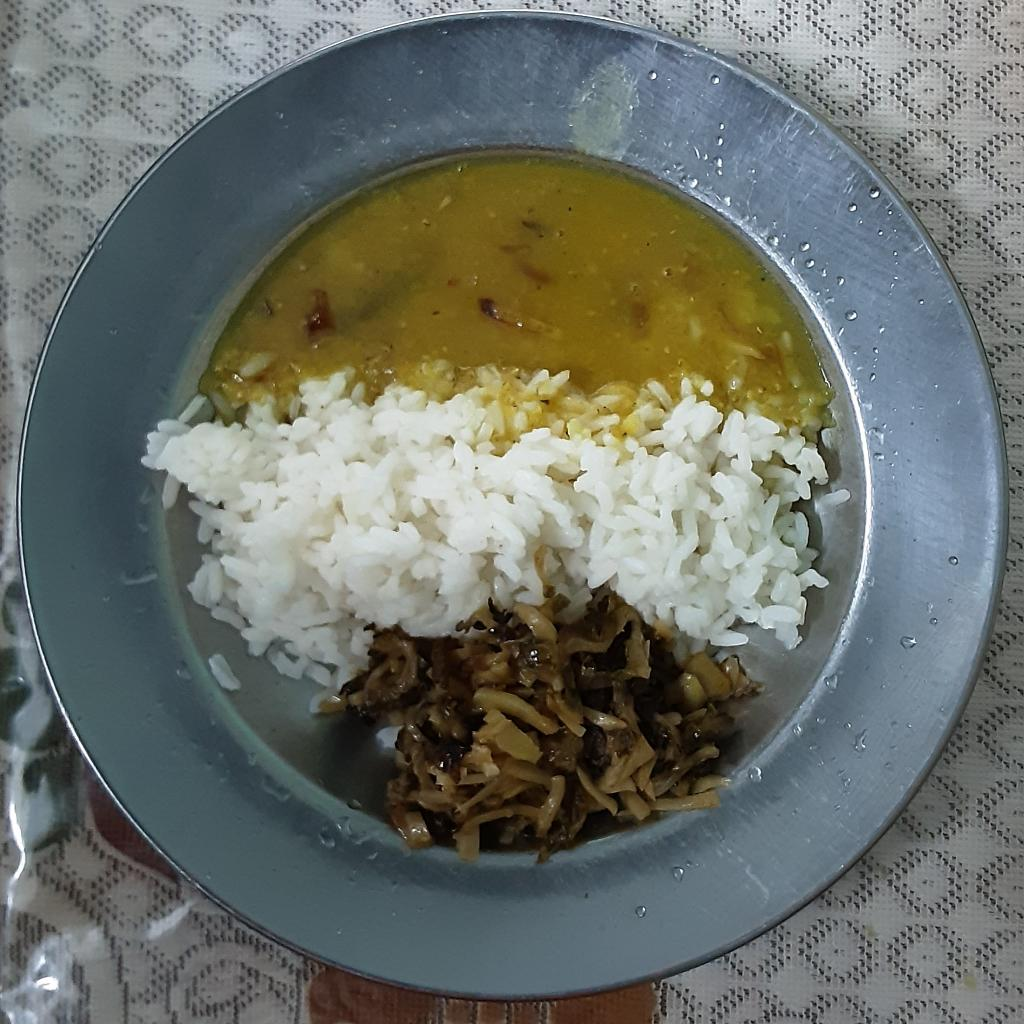daal: (202, 150, 833, 420)
korola-vaji: (318, 582, 759, 856)
rice: (140, 366, 831, 682)
